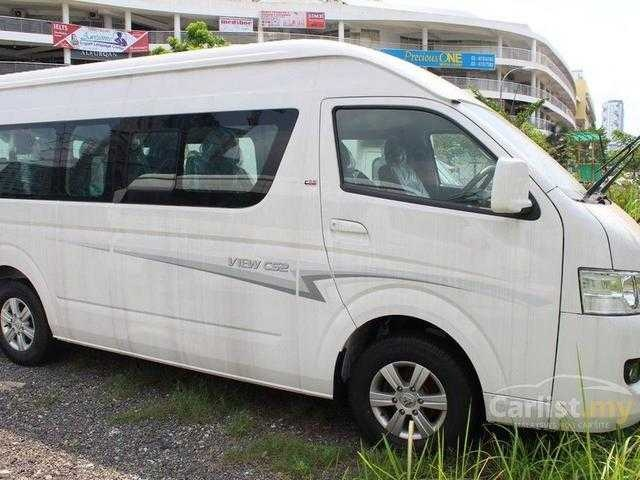van: (1, 38, 640, 455)
